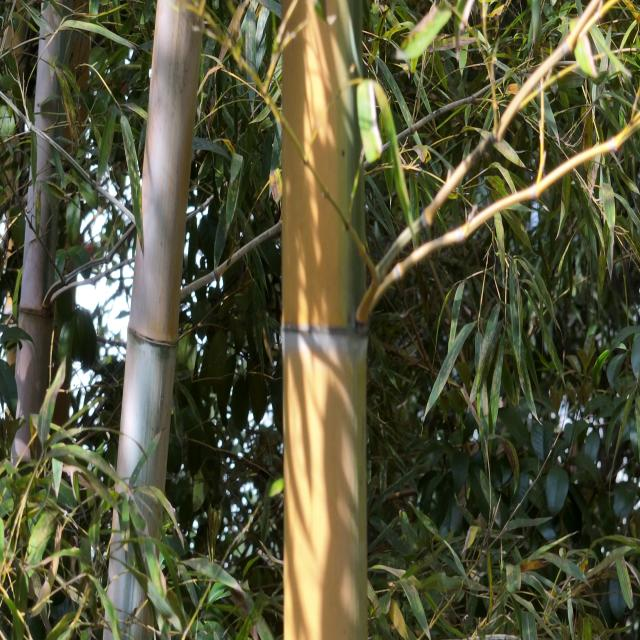Bamboo-shoots: (102, 0, 201, 640)
